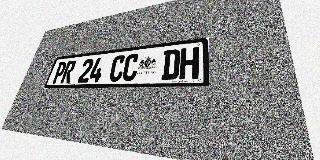2: (77, 58, 95, 83)
4: (88, 57, 106, 82)
C: (121, 53, 140, 81), (108, 55, 126, 82)
D: (161, 49, 181, 80)
H: (179, 47, 199, 79)
P: (51, 61, 68, 84)
R: (60, 60, 77, 83)
